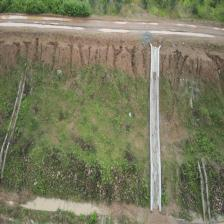slope_drain: (0, 63, 27, 183), (150, 44, 161, 212)
